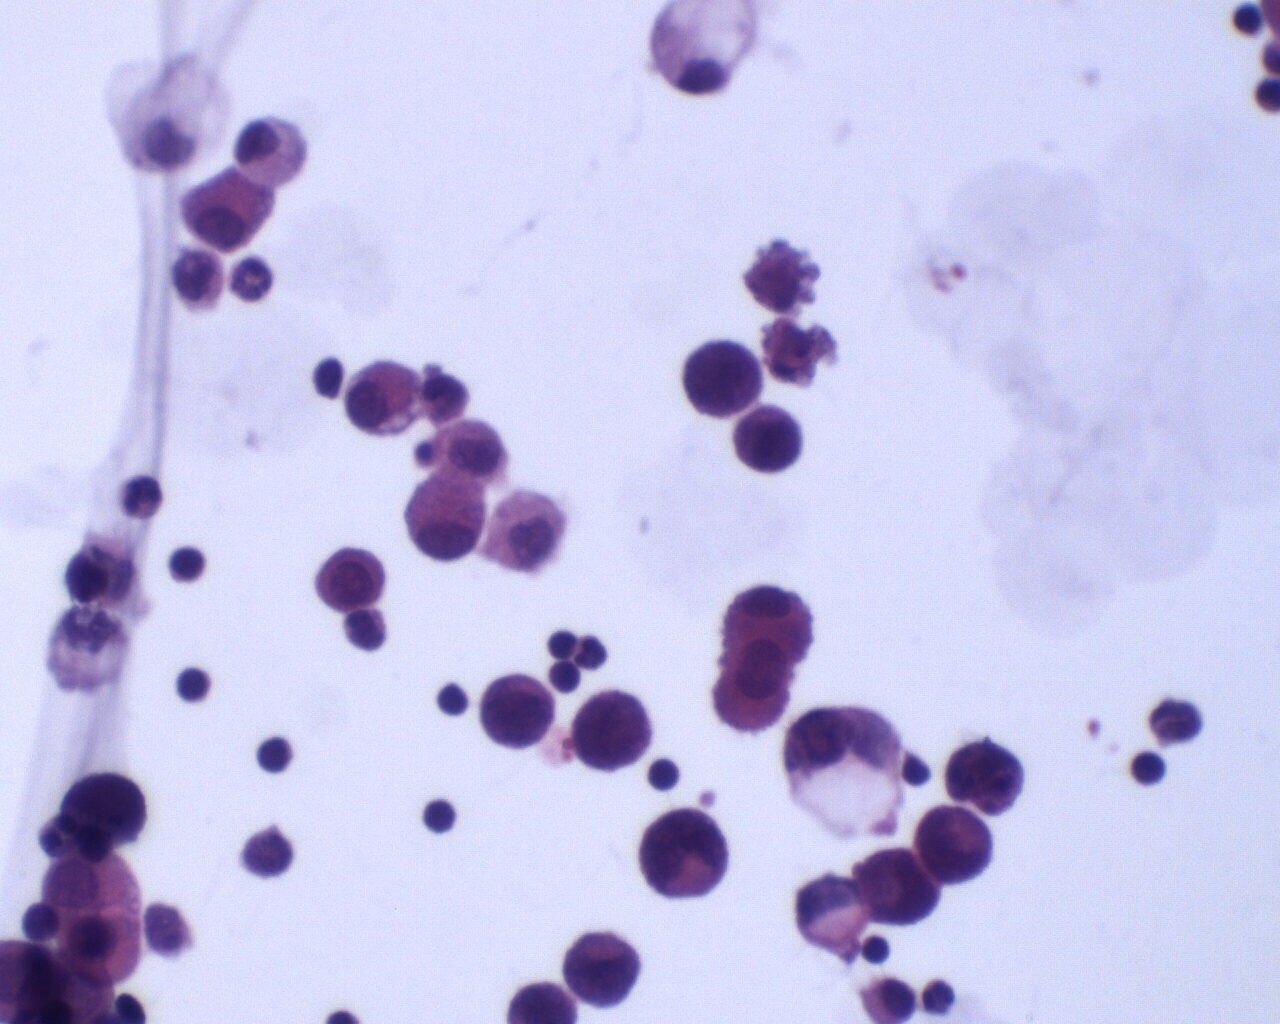ab: (637, 805, 734, 903), (850, 838, 945, 927), (568, 685, 655, 776), (941, 732, 1027, 820), (562, 922, 645, 1007), (478, 669, 559, 755), (681, 335, 765, 419), (917, 801, 996, 887), (732, 401, 804, 476), (313, 542, 389, 611)
histo: (648, 1, 768, 99)
lymph: (171, 658, 219, 708), (165, 537, 208, 585), (255, 734, 298, 777), (1126, 748, 1168, 791), (421, 798, 459, 838)
meso: (402, 475, 485, 563)
neutro: (119, 473, 169, 519), (230, 255, 276, 303)
